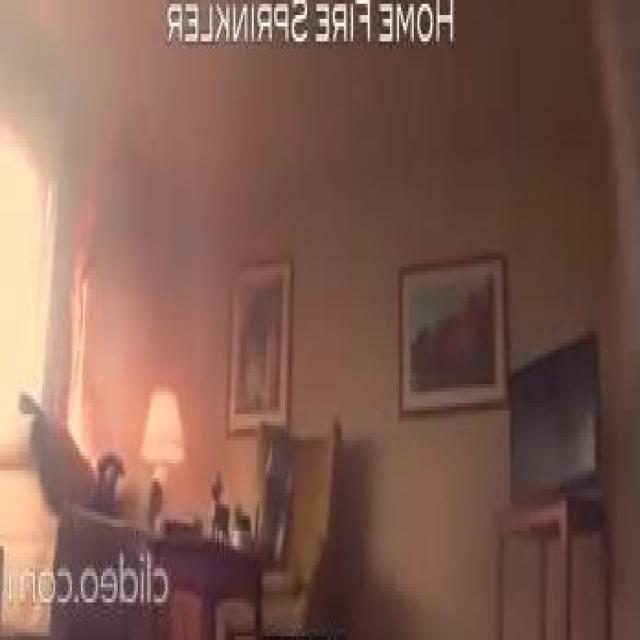smoke: (64, 256, 103, 471)
